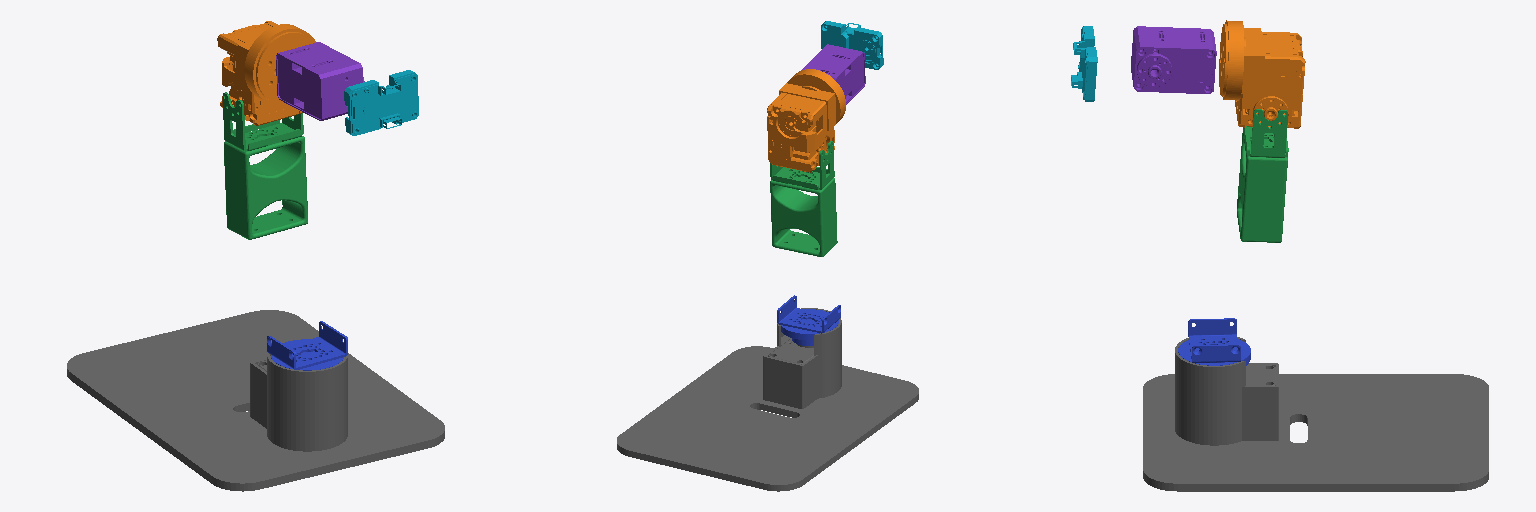
The robot description file, URDF, robot "robot_arm_fusion":
<?xml version="1.0"?>
<robot name="robot_arm_fusion">
  <material name="base_gray"><color rgba="0.45 0.45 0.45 1"/></material>
  <material name="yaw_blue"><color rgba="0.25 0.35 0.85 1"/></material>
  <material name="shoulder_green"><color rgba="0.2 0.65 0.35 1"/></material>
  <material name="upper_orange"><color rgba="0.95 0.55 0.15 1"/></material>
  <material name="forearm_purple"><color rgba="0.55 0.3 0.8 1"/></material>
  <material name="elbow_red"><color rgba="0.85 0.25 0.2 1"/></material>
  <material name="wrist_cyan"><color rgba="0.1 0.7 0.8 1"/></material>

  <link name="base_link">
    <inertial>
      <origin xyz="0 0 0" rpy="0 0 0"/>
      <mass value="0.1"/>
      <inertia ixx="0.0001" ixy="0" ixz="0" iyy="0.0001" iyz="0" izz="0.0001"/>
    </inertial>
    <visual>
      <origin xyz="-0.075 -0.0413 0" rpy="0 -0 0"/>
      <geometry><mesh filename="../cad/exports/fusion_meshes/arm_plate_v2_1.stl" scale="0.001 0.001 0.001"/></geometry>
      <material name="base_gray"/>
    </visual>
    <visual>
      <origin xyz="0.00015 -5e-05 0.022" rpy="-1.57772e-30 2.9525e-15 -3.14159"/>
      <geometry><mesh filename="../cad/exports/fusion_meshes/XM_H-430_idler_1_DUMMY_DC12_1.stl" scale="0.001 0.001 0.001"/></geometry>
      <material name="base_gray"/>
    </visual>
  </link>

  <link name="base_yaw_link">
    <inertial>
      <origin xyz="0 0 0" rpy="0 0 0"/>
      <mass value="0.1"/>
      <inertia ixx="0.0001" ixy="0" ixz="0" iyy="0.0001" iyz="0" izz="0.0001"/>
    </inertial>
    <visual>
      <origin xyz="3.15722e-30 -3.44974e-30 0.055" rpy="-3.14159 -1.58916e-17 -3.08048"/>
      <geometry><mesh filename="../cad/exports/fusion_meshes/arm_thrustA_1.stl" scale="0.001 0.001 0.001"/></geometry>
      <material name="yaw_blue"/>
    </visual>
    <visual>
      <origin xyz="2.45604e-16 1.19547e-16 0.0745" rpy="-3.14159 -2.05163e-15 -3.08048"/>
      <geometry><mesh filename="../cad/exports/fusion_meshes/fr12_s102_k_1.stl" scale="0.001 0.001 0.001"/></geometry>
      <material name="yaw_blue"/>
    </visual>
    <visual>
      <origin xyz="6.33757e-17 1.62178e-16 0.0955" rpy="1.5708 1.18611e-16 1.6319"/>
      <geometry><mesh filename="../cad/exports/fusion_meshes/XM_H-430_idler_2_DUMMY_DC12_1.stl" scale="0.001 0.001 0.001"/></geometry>
      <material name="yaw_blue"/>
    </visual>
  </link>

  <link name="shoulder_pitch_link">
    <inertial>
      <origin xyz="0 0 0" rpy="0 0 0"/>
      <mass value="0.1"/>
      <inertia ixx="0.0001" ixy="0" ixz="0" iyy="0.0001" iyz="0" izz="0.0001"/>
    </inertial>
    <visual>
      <origin xyz="-0.0131998 0.0237966 0.0161501" rpy="1.5019 2.11287e-15 0.061108"/>
      <geometry><mesh filename="../cad/exports/fusion_meshes/fr12_h101_k_1.stl" scale="0.001 0.001 0.001"/></geometry>
      <material name="shoulder_green"/>
    </visual>
    <visual>
      <origin xyz="-0.0347374 0.0401283 0.0971295" rpy="-1.85646e-14 1.5019 -1.50969"/>
      <geometry><mesh filename="../cad/exports/fusion_meshes/arm_part1_1.stl" scale="0.001 0.001 0.001"/></geometry>
      <material name="shoulder_green"/>
    </visual>
    <visual>
      <origin xyz="-0.0136622 0.031355 0.125889" rpy="-1.63969 2.96123e-16 0.061108"/>
      <geometry><mesh filename="../cad/exports/fusion_meshes/fr12_h101_k_2.stl" scale="0.001 0.001 0.001"/></geometry>
      <material name="shoulder_green"/>
    </visual>
  </link>

  <link name="upper_arm_link">
    <inertial>
      <origin xyz="0 0 0" rpy="0 0 0"/>
      <mass value="0.1"/>
      <inertia ixx="0.0001" ixy="0" ixz="0" iyy="0.0001" iyz="0" izz="0.0001"/>
    </inertial>
    <visual>
      <origin xyz="-3.26607e-05 0.000378369 0.00596068" rpy="1.5019 2.51529e-16 0.061108"/>
      <geometry><mesh filename="../cad/exports/fusion_meshes/2XC-430_1_DC14_A01_REF_1.stl" scale="0.001 0.001 0.001"/></geometry>
      <material name="upper_orange"/>
    </visual>
    <visual>
      <origin xyz="0.0155088 0.000501614 -0.00601085" rpy="-3.62933e-15 1.5019 -1.50969"/>
      <geometry><mesh filename="../cad/exports/fusion_meshes/2XC-430_1_DC11_A01_HORN_REF_ASM_1_DC11_A01_HORN_REF_1.stl" scale="0.001 0.001 0.001"/></geometry>
      <material name="upper_orange"/>
    </visual>
    <visual>
      <origin xyz="0.000862446 -0.0142514 0.0190006" rpy="1.5708 -1.5019 1.6319"/>
      <geometry><mesh filename="../cad/exports/fusion_meshes/2XC-430_1_DC11_A01_HORN_REF_ASM_2_DC11_A01_HORN_REF_1.stl" scale="0.001 0.001 0.001"/></geometry>
      <material name="upper_orange"/>
    </visual>
    <visual>
      <origin xyz="0.0011134 -0.0167154 0.0191614" rpy="1.5019 2.51323e-16 0.061108"/>
      <geometry><mesh filename="../cad/exports/fusion_meshes/arm_thrustC_1.stl" scale="0.001 0.001 0.001"/></geometry>
      <material name="upper_orange"/>
    </visual>
    <visual>
      <origin xyz="0.00165447 -0.0271963 0.0198956" rpy="-1.63969 -1.97853e-16 0.061108"/>
      <geometry><mesh filename="../cad/exports/fusion_meshes/arm_thrustB_1.stl" scale="0.001 0.001 0.001"/></geometry>
      <material name="upper_orange"/>
    </visual>
    <visual>
      <origin xyz="0.00284251 -0.0466137 0.021238" rpy="-1.63969 -1.83573e-16 0.061108"/>
      <geometry><mesh filename="../cad/exports/fusion_meshes/fr12_s102_k_2.stl" scale="0.001 0.001 0.001"/></geometry>
      <material name="upper_orange"/>
    </visual>
  </link>

  <link name="forearm_link">
    <inertial>
      <origin xyz="0 0 0" rpy="0 0 0"/>
      <mass value="0.1"/>
      <inertia ixx="0.0001" ixy="0" ixz="0" iyy="0.0001" iyz="0" izz="0.0001"/>
    </inertial>
    <visual>
      <origin xyz="-0.00777806 -0.000424807 -1.63223e-05" rpy="1.5708 -1.5019 1.6319"/>
      <geometry><mesh filename="../cad/exports/fusion_meshes/XC-430_idle_1_DC11_B01_CASE_M_DUMMY_1.stl" scale="0.001 0.001 0.001"/></geometry>
      <material name="forearm_purple"/>
    </visual>
    <visual>
      <origin xyz="-0.00777806 -0.000424807 -1.63223e-05" rpy="1.5708 -1.5019 1.6319"/>
      <geometry><mesh filename="../cad/exports/fusion_meshes/XC-430_idle_1_DC11_B01_CASE_F_DUMMY_1.stl" scale="0.001 0.001 0.001"/></geometry>
      <material name="forearm_purple"/>
    </visual>
    <visual>
      <origin xyz="-0.00777806 -0.000424807 -1.63223e-05" rpy="1.5708 -1.5019 1.6319"/>
      <geometry><mesh filename="../cad/exports/fusion_meshes/XC-430_idle_1_DC11_B01_CASE_B_DUMMY2_1.stl" scale="0.001 0.001 0.001"/></geometry>
      <material name="forearm_purple"/>
    </visual>
    <visual>
      <origin xyz="0.00769301 0.000521777 -1.63223e-05" rpy="-6.34185e-14 -0.0688963 -1.50969"/>
      <geometry><mesh filename="../cad/exports/fusion_meshes/XC-430_idle_1_M_DC11_A01_HORN_ASM_1_M_DC11_A01_HORN_1.stl" scale="0.001 0.001 0.001"/></geometry>
      <material name="forearm_purple"/>
    </visual>
    <visual>
      <origin xyz="-0.0264834 -0.0303827 -0.0100603" rpy="1.5019 6.32561e-14 0.061108"/>
      <geometry><mesh filename="../cad/exports/fusion_meshes/arm_hand_v2_1.stl" scale="0.001 0.001 0.001"/></geometry>
      <material name="forearm_purple"/>
    </visual>
    <visual>
      <origin xyz="-0.00777806 -0.000424807 -1.63223e-05" rpy="0.0688963 -6.3055e-14 -3.08048"/>
      <geometry><mesh filename="../cad/exports/fusion_meshes/fr12_h101_k_3.stl" scale="0.001 0.001 0.001"/></geometry>
      <material name="forearm_purple"/>
    </visual>
  </link>

  <link name="elbow_roll_link">
    <inertial>
      <origin xyz="0 0 0" rpy="0 0 0"/>
      <mass value="0.1"/>
      <inertia ixx="0.0001" ixy="0" ixz="0" iyy="0.0001" iyz="0" izz="0.0001"/>
    </inertial>
  </link>

  <link name="wrist_pitch_link">
    <inertial>
      <origin xyz="0 0 0" rpy="0 0 0"/>
      <mass value="0.1"/>
      <inertia ixx="0.0001" ixy="0" ixz="0" iyy="0.0001" iyz="0" izz="0.0001"/>
    </inertial>
    <visual>
      <origin xyz="-0.00050996 0.00769539 -0.000536548" rpy="9.26811e-13 -1.5019 1.6319"/>
      <geometry><mesh filename="../cad/exports/fusion_meshes/XC-430_idle_2_DC11_B01_CASE_M_DUMMY_1.stl" scale="0.001 0.001 0.001"/></geometry>
      <material name="wrist_cyan"/>
    </visual>
    <visual>
      <origin xyz="-0.00050996 0.00769539 -0.000536548" rpy="9.26846e-13 -1.5019 1.6319"/>
      <geometry><mesh filename="../cad/exports/fusion_meshes/XC-430_idle_2_DC11_B01_CASE_F_DUMMY_1.stl" scale="0.001 0.001 0.001"/></geometry>
      <material name="wrist_cyan"/>
    </visual>
    <visual>
      <origin xyz="-0.00050996 0.00769539 -0.000536548" rpy="9.26805e-13 -1.5019 1.6319"/>
      <geometry><mesh filename="../cad/exports/fusion_meshes/XC-430_idle_2_DC11_B01_CASE_B_DUMMY2_1.stl" scale="0.001 0.001 0.001"/></geometry>
      <material name="wrist_cyan"/>
    </visual>
    <visual>
      <origin xyz="0.000434379 -0.00773898 0.000530501" rpy="0.0688963 -6.54787e-14 -3.08048"/>
      <geometry><mesh filename="../cad/exports/fusion_meshes/XC-430_idle_2_M_DC11_A01_HORN_ASM_1_M_DC11_A01_HORN_1.stl" scale="0.001 0.001 0.001"/></geometry>
      <material name="wrist_cyan"/>
    </visual>
  </link>

  <joint name="base_yaw_joint" type="revolute">
    <parent link="base_link"/>
    <child link="base_yaw_link"/>
    <origin xyz="0 0 0" rpy="0 0 0"/>
    <axis xyz="0 0 1"/>
    <limit lower="-3.14159" upper="3.14159" effort="2.0" velocity="1.0"/>
  </joint>

  <joint name="shoulder_pitch_joint" type="revolute">
    <parent link="base_yaw_link"/>
    <child link="shoulder_pitch_link"/>
    <origin xyz="0.002 0 0.0835" rpy="0 0 0"/>
    <axis xyz="1 0 0"/>
    <limit lower="-1.5708" upper="1.5708" effort="2.0" velocity="1.0"/>
  </joint>

  <joint name="upper_arm_roll_joint" type="revolute">
    <parent link="shoulder_pitch_link"/>
    <child link="upper_arm_link"/>
    <origin xyz="-0.0137 0.0318 0.1319" rpy="0 0 0"/>
    <axis xyz="0 0 -1"/>
    <limit lower="-1.5708" upper="1.5708" effort="2.0" velocity="1.0"/>
  </joint>

  <joint name="elbow_pitch_joint" type="revolute">
    <parent link="upper_arm_link"/>
    <child link="forearm_link"/>
    <origin xyz="0.0119 -0.0671 0.0227" rpy="0 0 0"/>
    <axis xyz="0 1 0"/>
    <limit lower="-1.5708" upper="1.5708" effort="2.0" velocity="1.0"/>
  </joint>

  <joint name="elbow_roll_joint" type="revolute">
    <parent link="forearm_link"/>
    <child link="elbow_roll_link"/>
    <origin xyz="-0.0078 -0.0004 0" rpy="0 0 0"/>
    <axis xyz="-1 0 0"/>
    <limit lower="-1.5708" upper="1.5708" effort="2.0" velocity="1.0"/>
  </joint>

  <joint name="wrist_pitch_joint" type="revolute">
    <parent link="elbow_roll_link"/>
    <child link="wrist_pitch_link"/>
    <origin xyz="0.0037 -0.0595 0.0041" rpy="0 0 0"/>
    <axis xyz="0 1 0"/>
    <limit lower="-1.5708" upper="1.5708" effort="2.0" velocity="1.0"/>
  </joint>

</robot>

--- Render facts (derived) ---
Views: 3 orthographic renders of the robot side by side, from view 1: azimuth 30°, elevation 25°; view 2: azimuth 150°, elevation 25°; view 3: azimuth 270°, elevation 25°.
Model robot_arm_fusion with 7 links and 6 joints (6 revolute), rooted at base_link, posed all joints at 0.
Visible links, largest first — view 1: base_link, shoulder_pitch_link, upper_arm_link, forearm_link, wrist_pitch_link, base_yaw_link; view 2: base_link, upper_arm_link, shoulder_pitch_link, forearm_link, base_yaw_link, wrist_pitch_link; view 3: base_link, upper_arm_link, shoulder_pitch_link, forearm_link, base_yaw_link, wrist_pitch_link.
Boxes of the visible links, bbox=[...] form: base_link: bbox=[67, 310, 444, 491]; shoulder_pitch_link: bbox=[223, 92, 307, 239]; upper_arm_link: bbox=[217, 21, 315, 125]; forearm_link: bbox=[276, 42, 364, 120]; wrist_pitch_link: bbox=[344, 70, 418, 135]; base_yaw_link: bbox=[267, 321, 347, 370]; base_link: bbox=[617, 308, 918, 491]; upper_arm_link: bbox=[767, 69, 845, 172]; shoulder_pitch_link: bbox=[770, 141, 837, 256]; forearm_link: bbox=[802, 44, 865, 104]; base_yaw_link: bbox=[777, 295, 840, 345]; wrist_pitch_link: bbox=[821, 21, 883, 69]; base_link: bbox=[1143, 337, 1488, 491]; upper_arm_link: bbox=[1219, 20, 1305, 128]; shoulder_pitch_link: bbox=[1237, 109, 1288, 242]; forearm_link: bbox=[1131, 26, 1216, 93]; base_yaw_link: bbox=[1178, 318, 1250, 365]; wrist_pitch_link: bbox=[1071, 26, 1097, 101].
Size in the robot's own frame: 0.15 by 0.2418 by 0.2581 metres.
Meshes: 24 distinct files referenced, 14 mesh visuals loaded (14 binary STL); not drawn: 10 (reference not matched to a file when rendering).
